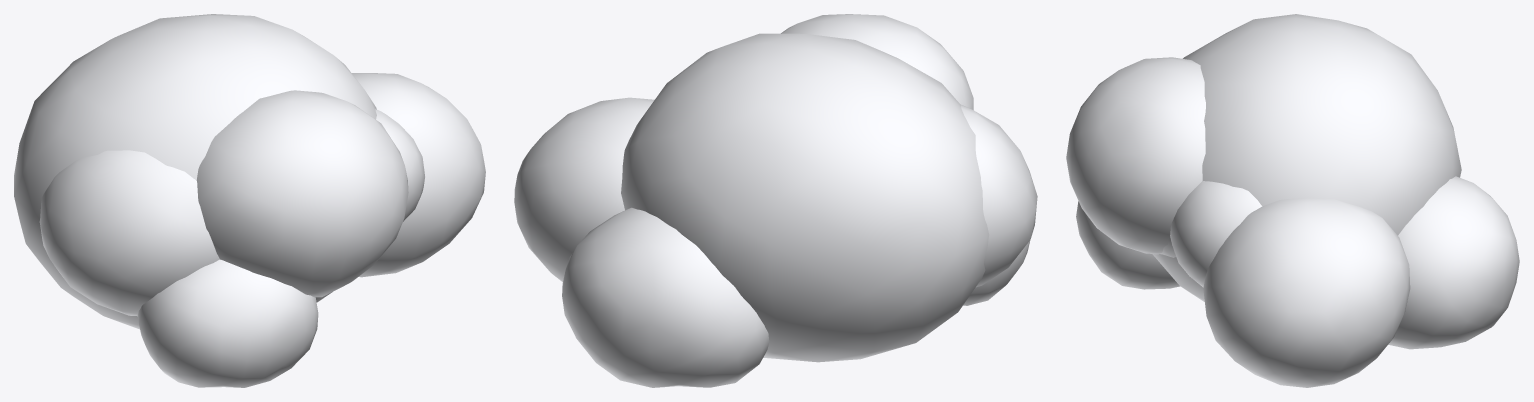
The model's file is Cloud2.obj.
3 renders of one model, left to right at view 1: azimuth 30°, elevation 25°; view 2: azimuth 150°, elevation 25°; view 3: azimuth 270°, elevation 25°, orthographic. The views are drawn at different scales.
Parts seen in each view (by area): view 1: Cloud2; view 2: Cloud2; view 3: Cloud2.
Boxes of the visible parts, x1,y1,x2,y2 form: Cloud2: (14,14,485,387); Cloud2: (514,14,1037,387); Cloud2: (1066,14,1519,387).
Size of the model in its own units: 1.86 by 1.05 by 1.69.
1 material, 1 textured.
